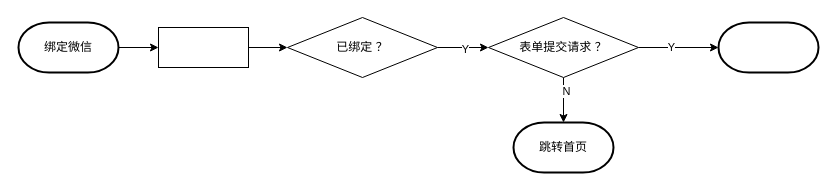
This 836x191 diagram has some shape labels left out. The centre of each missing label's shape, as x and y in pixels:
"拉取绑定结果" goes at (203,47).
"跳转完成注册" goes at (768,47).
